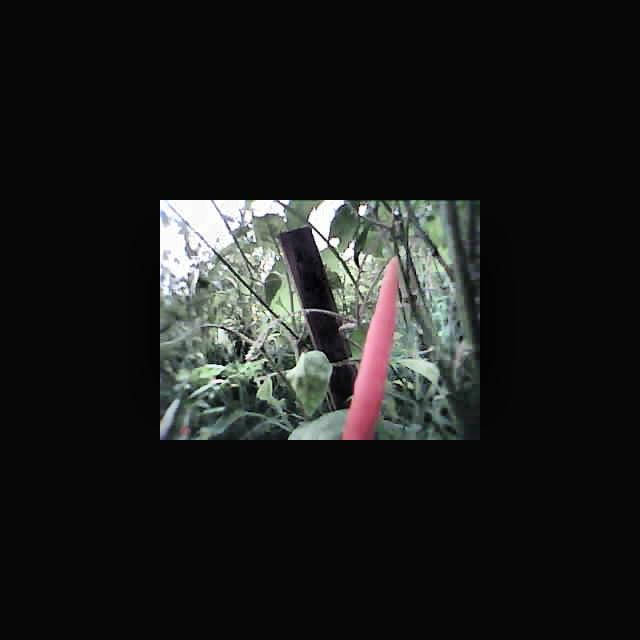Cabai: (349, 256, 403, 440)
